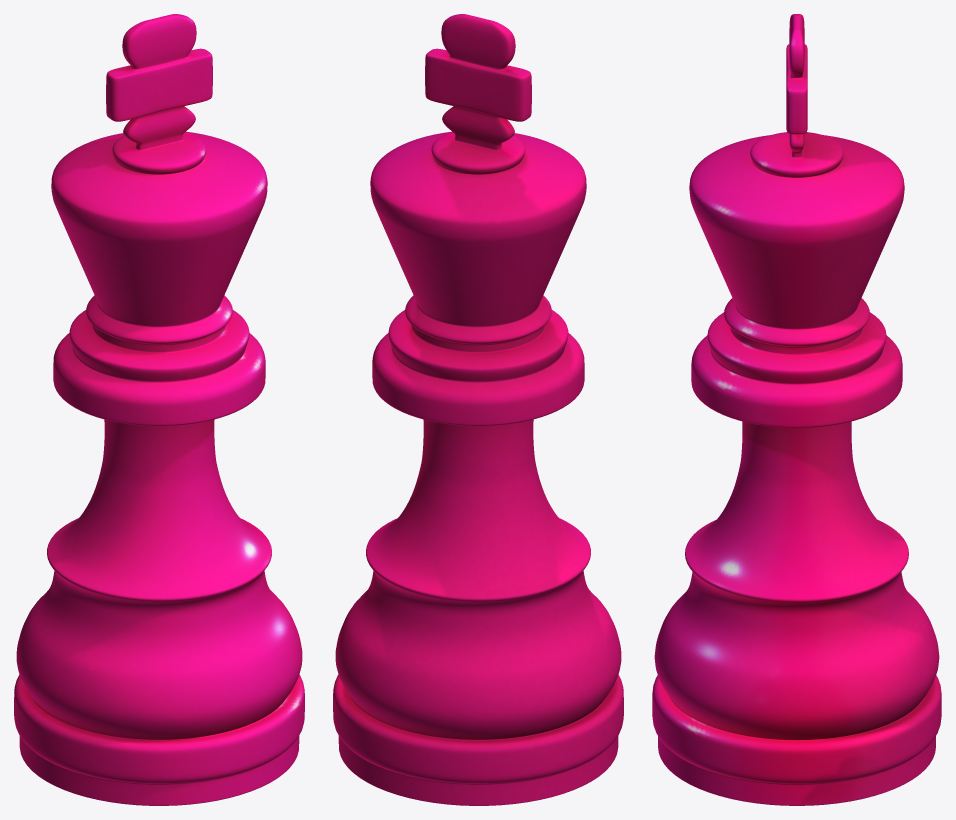
The model's file is king.gltf.
The picture shows the model from 3 angles, left to right: view 1: azimuth 30°, elevation 25°; view 2: azimuth 150°, elevation 25°; view 3: azimuth 270°, elevation 25°; orthographic projection.
Visible parts, largest first — view 1: Object001.004; view 2: Object001.004; view 3: Object001.004.
Boxes of the visible parts, left/top/right/bottom form: Object001.004: left=14, top=14, right=304, bottom=805; Object001.004: left=333, top=14, right=623, bottom=805; Object001.004: left=652, top=14, right=941, bottom=805.
Size of the model in its own units: 4.38 by 12.1 by 4.38.
1 material, 1 textured.
